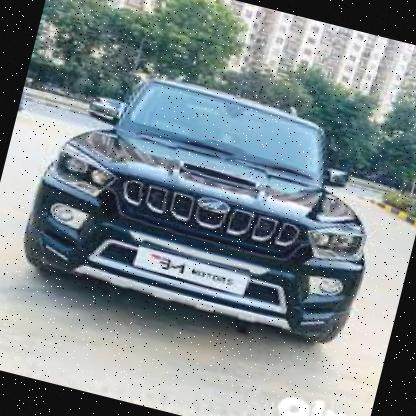car: (4, 43, 410, 372)
